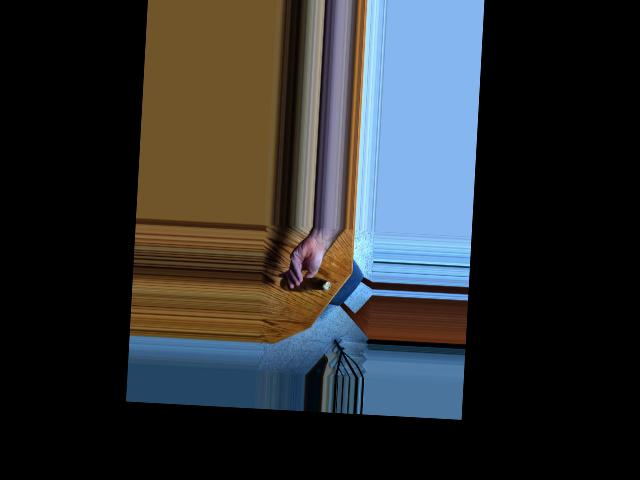sweet_potato: (283, 277, 325, 298)
